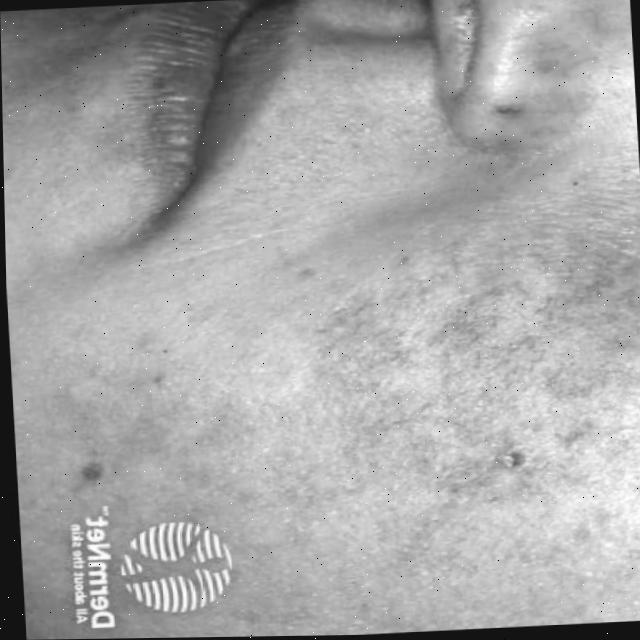lupus-detected: (313, 172, 640, 607), (6, 258, 271, 601), (386, 0, 625, 168)
